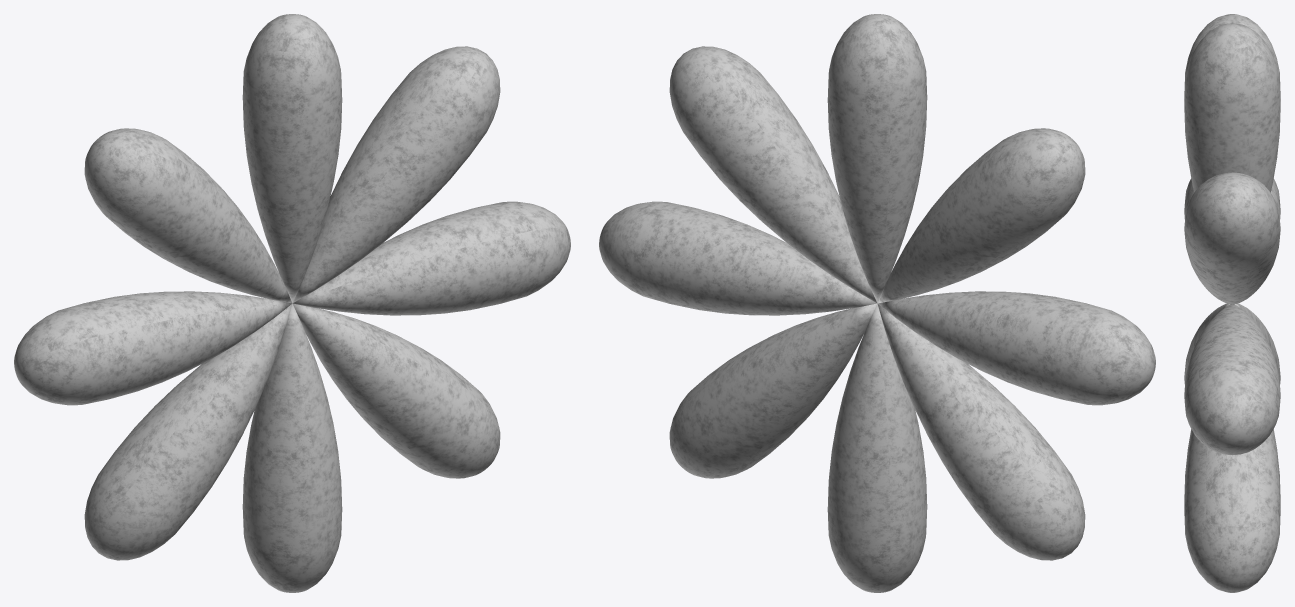
The model's file is asset.glb.
3 views of the same model, side by side, from view 1: azimuth 30°, elevation 25°; view 2: azimuth 150°, elevation 25°; view 3: azimuth 270°, elevation 25° (orthographic). The views are drawn at different scales.
Visible parts, largest first — view 1: Shape_0018; view 2: Shape_0018; view 3: Shape_0018.
Part boxes in pixels (x1=…): Shape_0018: x1=14, y1=14, x2=570, y2=592; Shape_0018: x1=599, y1=14, x2=1155, y2=592; Shape_0018: x1=1184, y1=14, x2=1280, y2=592.
Size of the model in its own units: 2.32 by 2.32 by 0.3665.
Materials: 1 (1 with a texture image).
